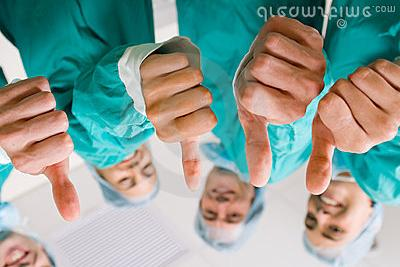thumbsdown: (232, 14, 329, 190), (305, 54, 400, 197), (1, 75, 82, 224), (138, 49, 218, 191)
